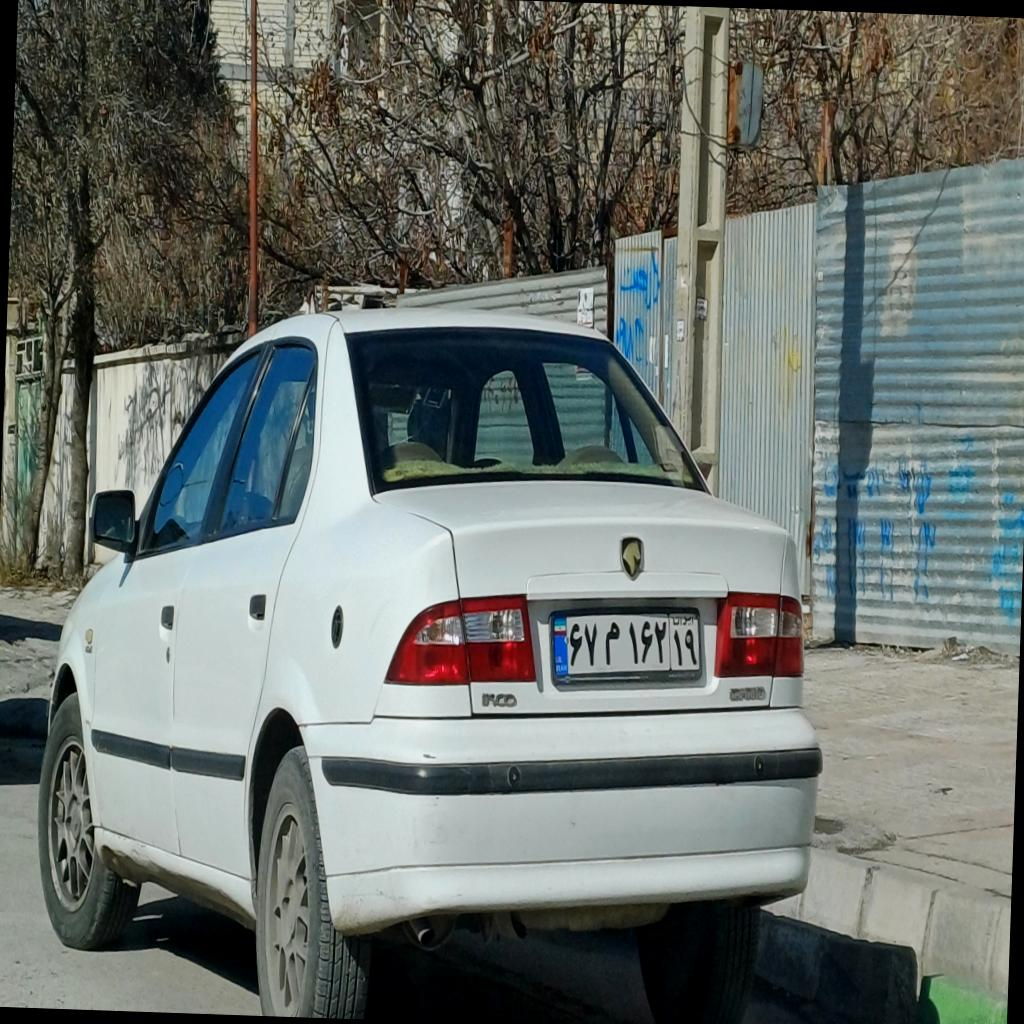Plates: (551, 608, 702, 684)
